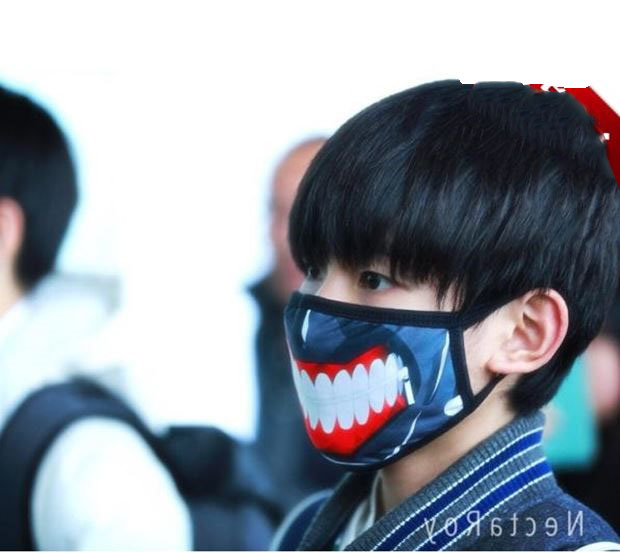face_mask: (292, 178, 469, 470)
